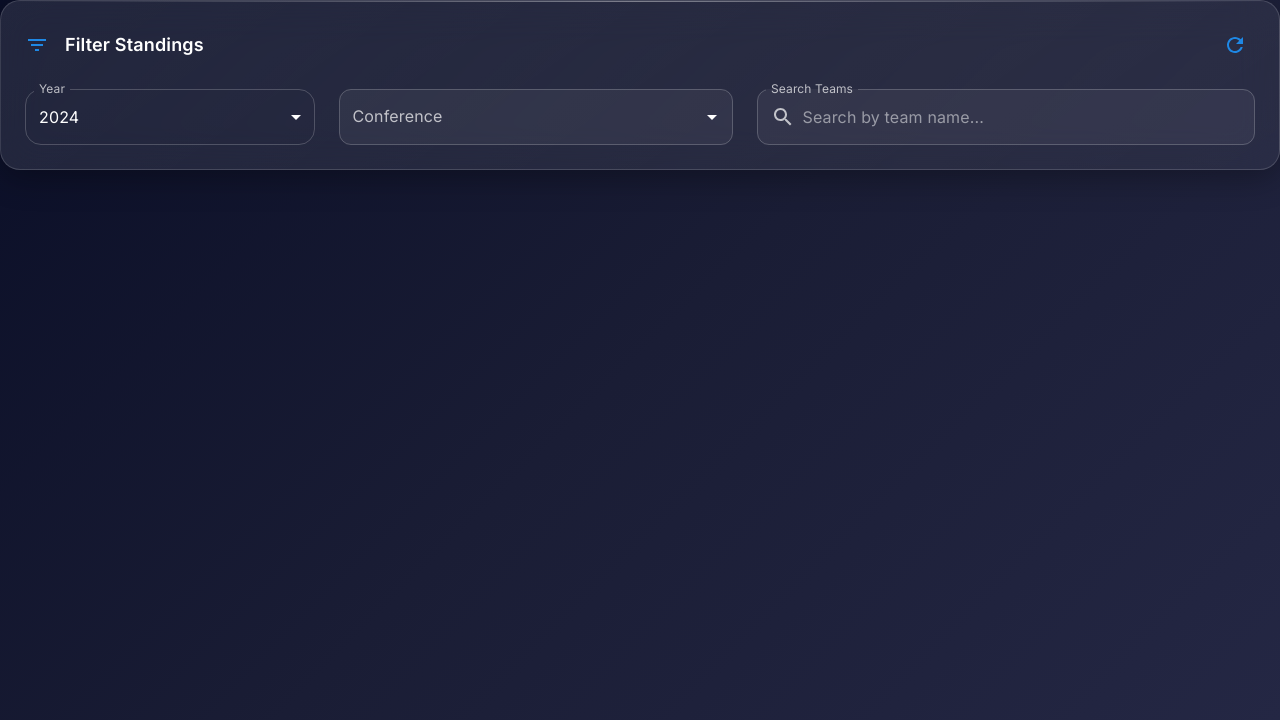
Test: StandingsFilters › displays available years in year select
This screenshot has width=1280, height=720.
Click on year select
Step 1. Click the dropdown labelled "2024" → (59, 116), box [39, 106, 79, 126]
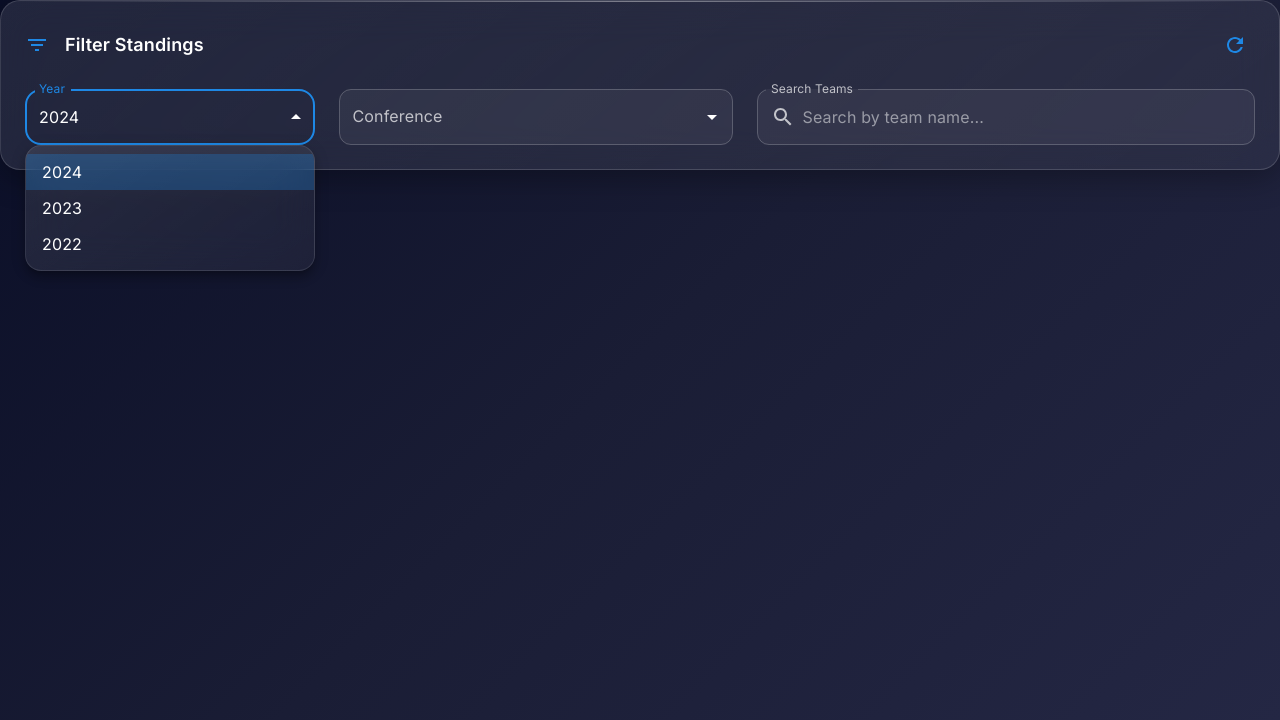
Check: the option "2024" is shown, box [26, 154, 314, 190]
Check: the option "2023" is shown, box [42, 198, 82, 218]
Check: the option "2022" is shown, box [42, 234, 82, 254]
